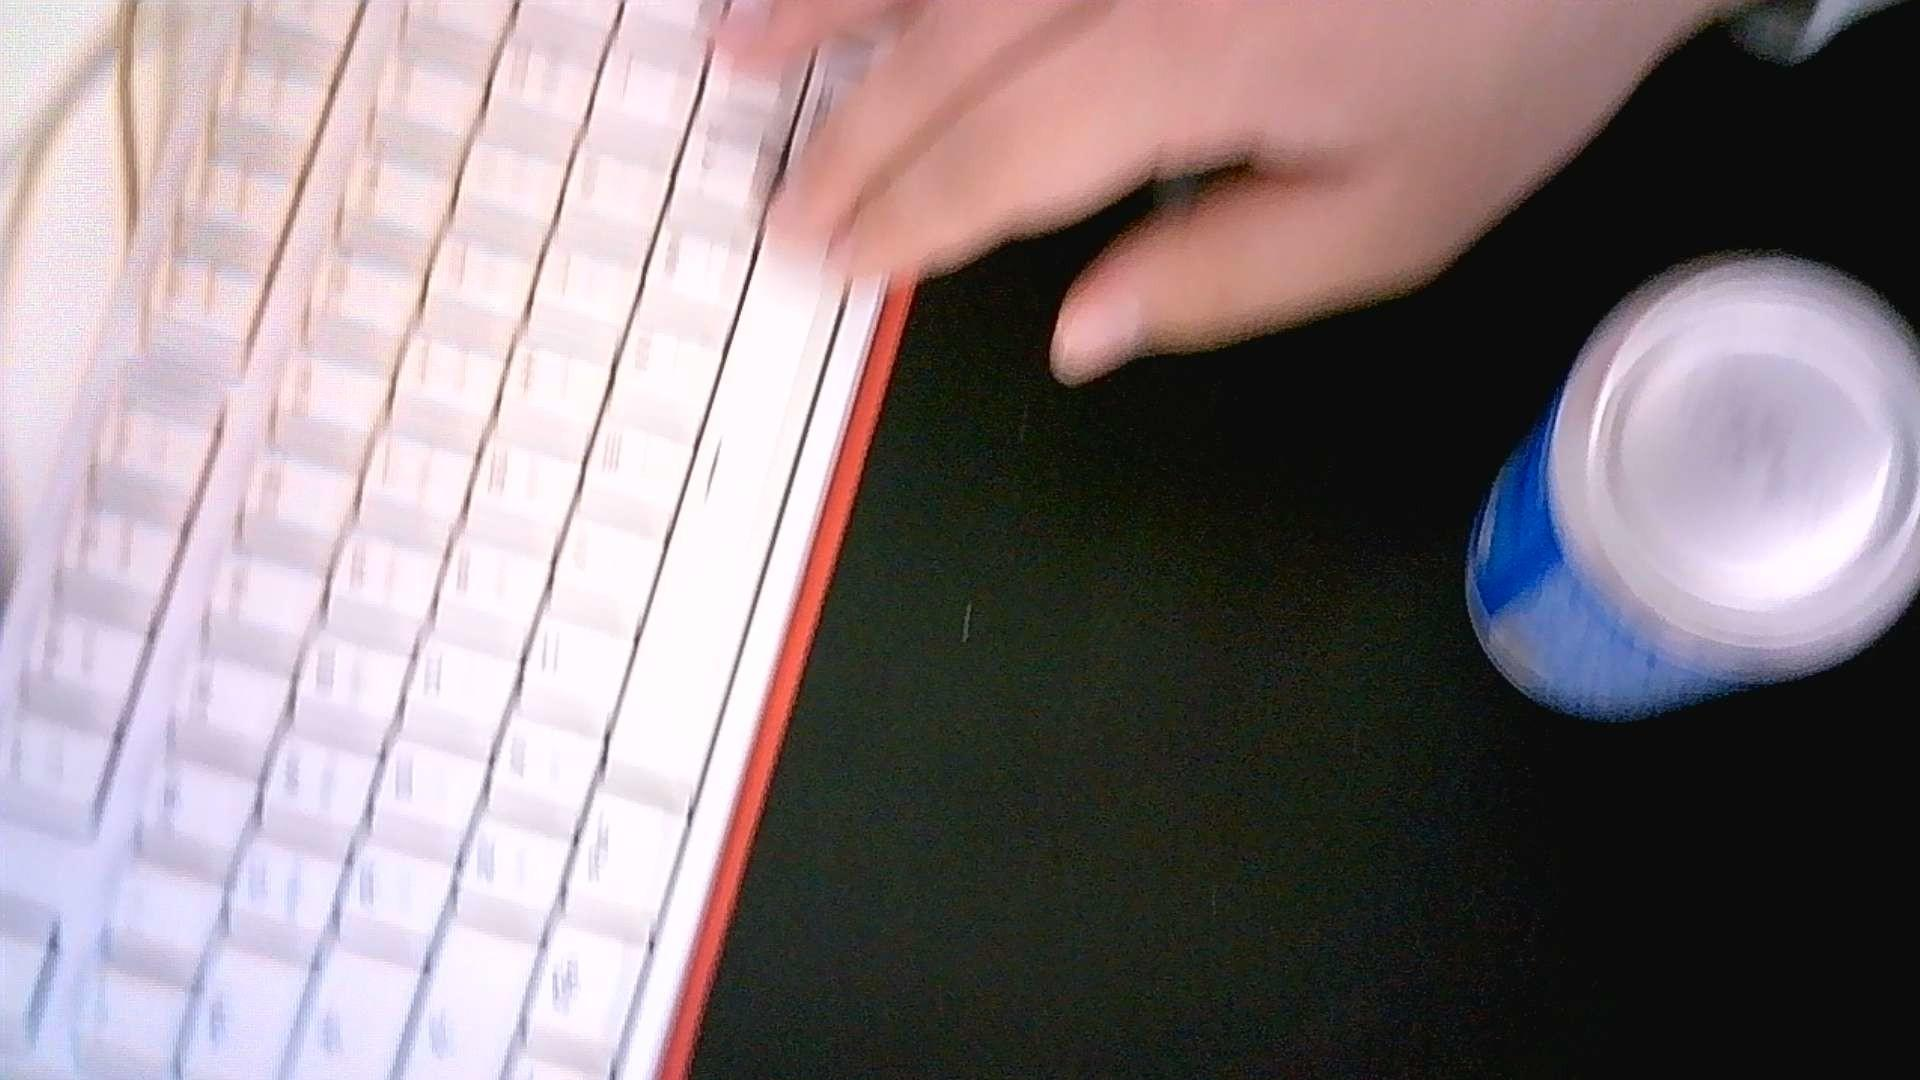letsbe: (1465, 256, 1920, 724)
